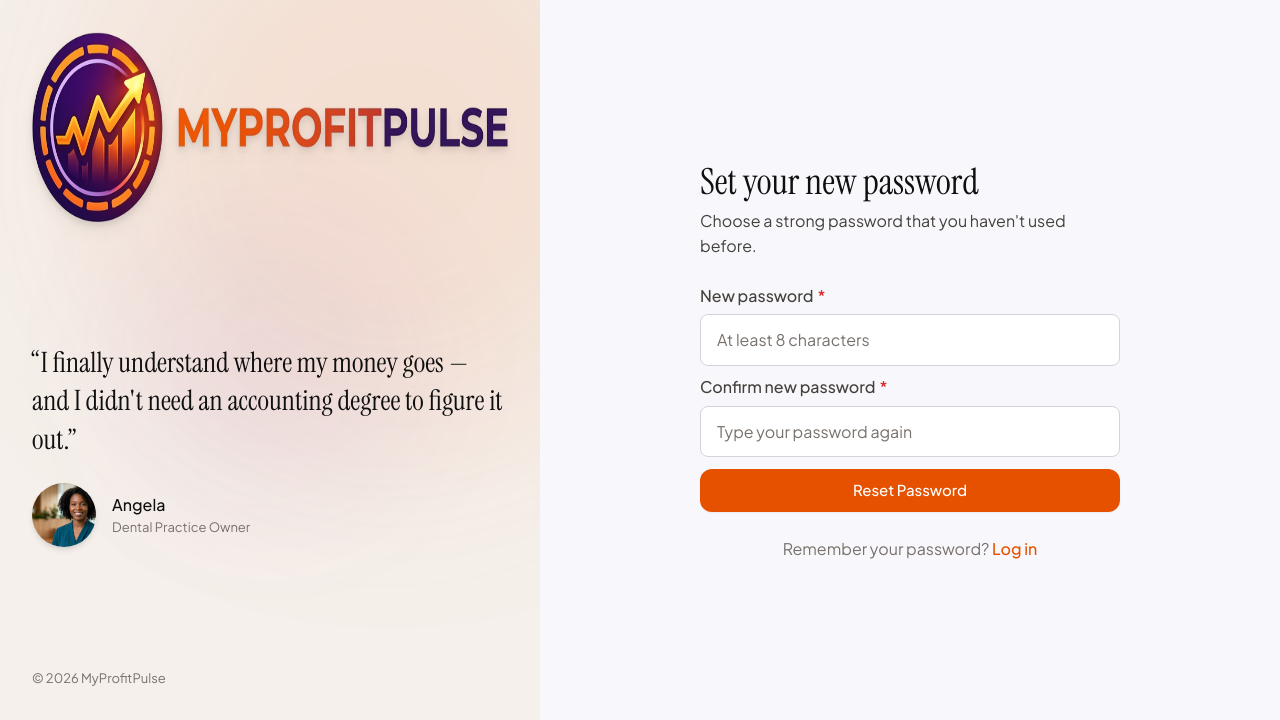
Test: ResetPasswordPage › shows validation error when password is empty
Expected: the heading "Set your new password" is shown, [700,158,979,205]
Click the button "Reset Password".
click(910, 490)  # box [700,469,1120,512]
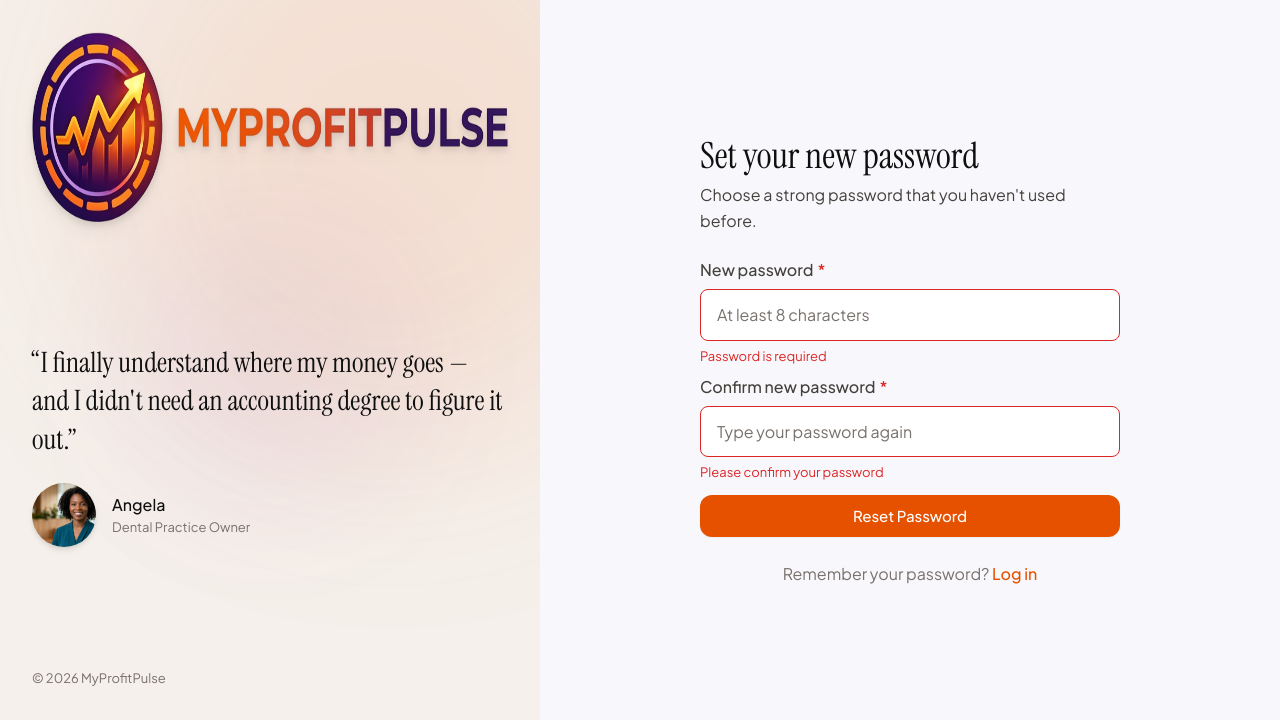
Result: the text "Password is required" is shown at [700,348,827,364]
